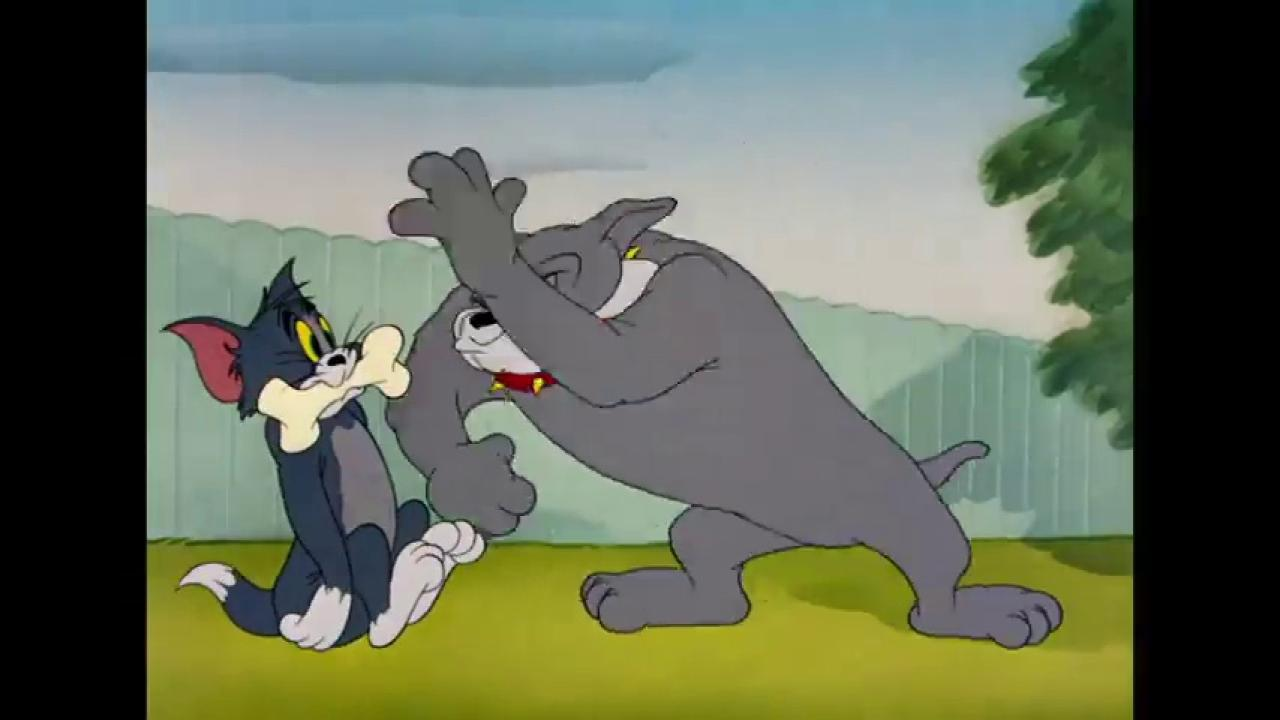Tom: (159, 256, 488, 651)
